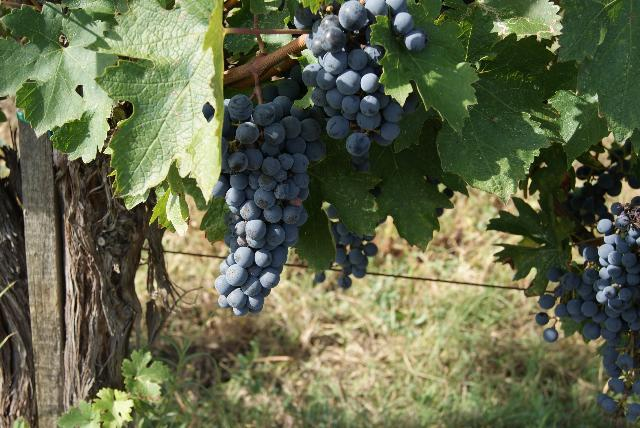grapes: (211, 94, 326, 316), (295, 0, 429, 171), (548, 196, 640, 421)
